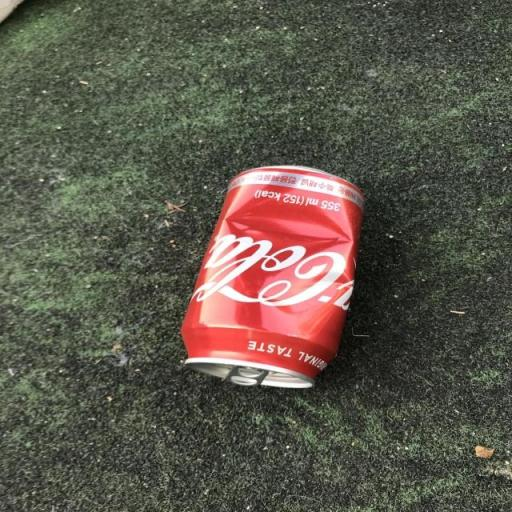metal: (155, 154, 377, 400)
